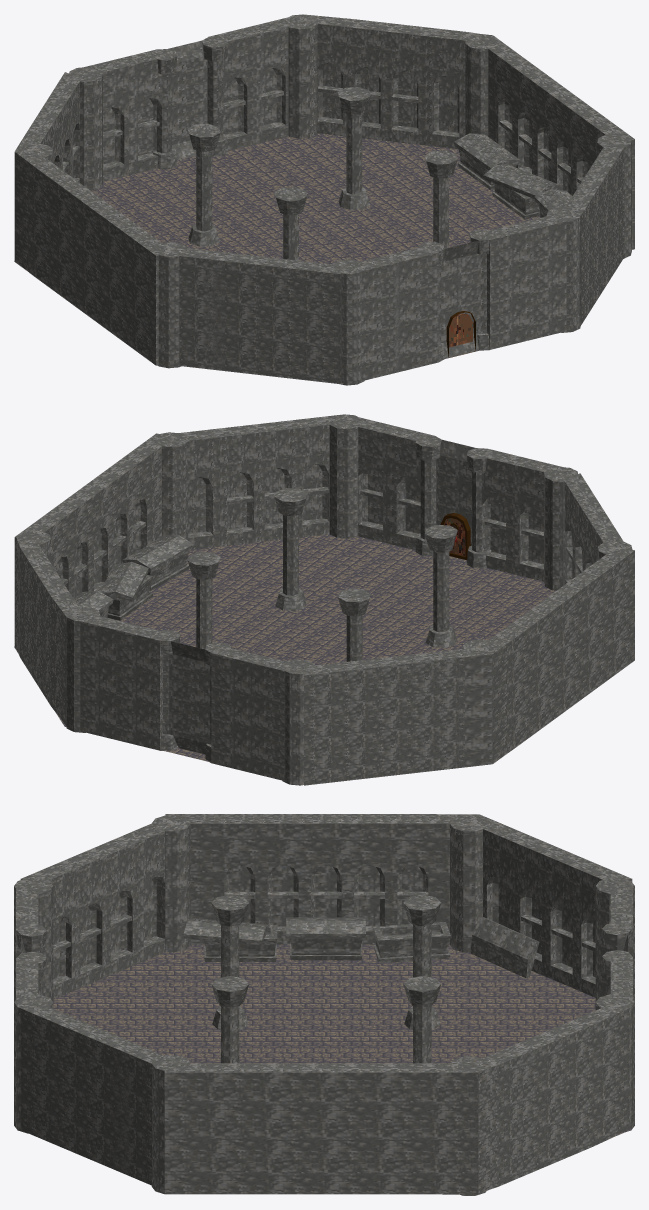
The model's file is arena2.3 (1).fbx.
3 renders of one model, top to bottom at view 1: azimuth 30°, elevation 25°; view 2: azimuth 150°, elevation 25°; view 3: azimuth 270°, elevation 25°, orthographic. The views are drawn at different scales.
Parts seen in each view (by area): view 1: walls.004, walls.002, walls.003, door.002; view 2: walls.004, walls.002, walls.003, door.002; view 3: walls.004, walls.002, walls.003.
Boxes of the visible parts, <box> form: walls.004: <box>14,14,634,385</box>; walls.002: <box>14,133,540,383</box>; walls.003: <box>187,87,457,260</box>; door.002: <box>446,311,475,357</box>; walls.004: <box>14,414,634,785</box>; walls.002: <box>14,534,631,785</box>; walls.003: <box>187,488,457,661</box>; door.002: <box>440,513,470,560</box>; walls.004: <box>14,814,634,1195</box>; walls.002: <box>53,944,632,1193</box>; walls.003: <box>211,895,440,1063</box>.
Bounding box in the file's own units: 206 × 45.91 × 209.
6 materials, 3 textured.
